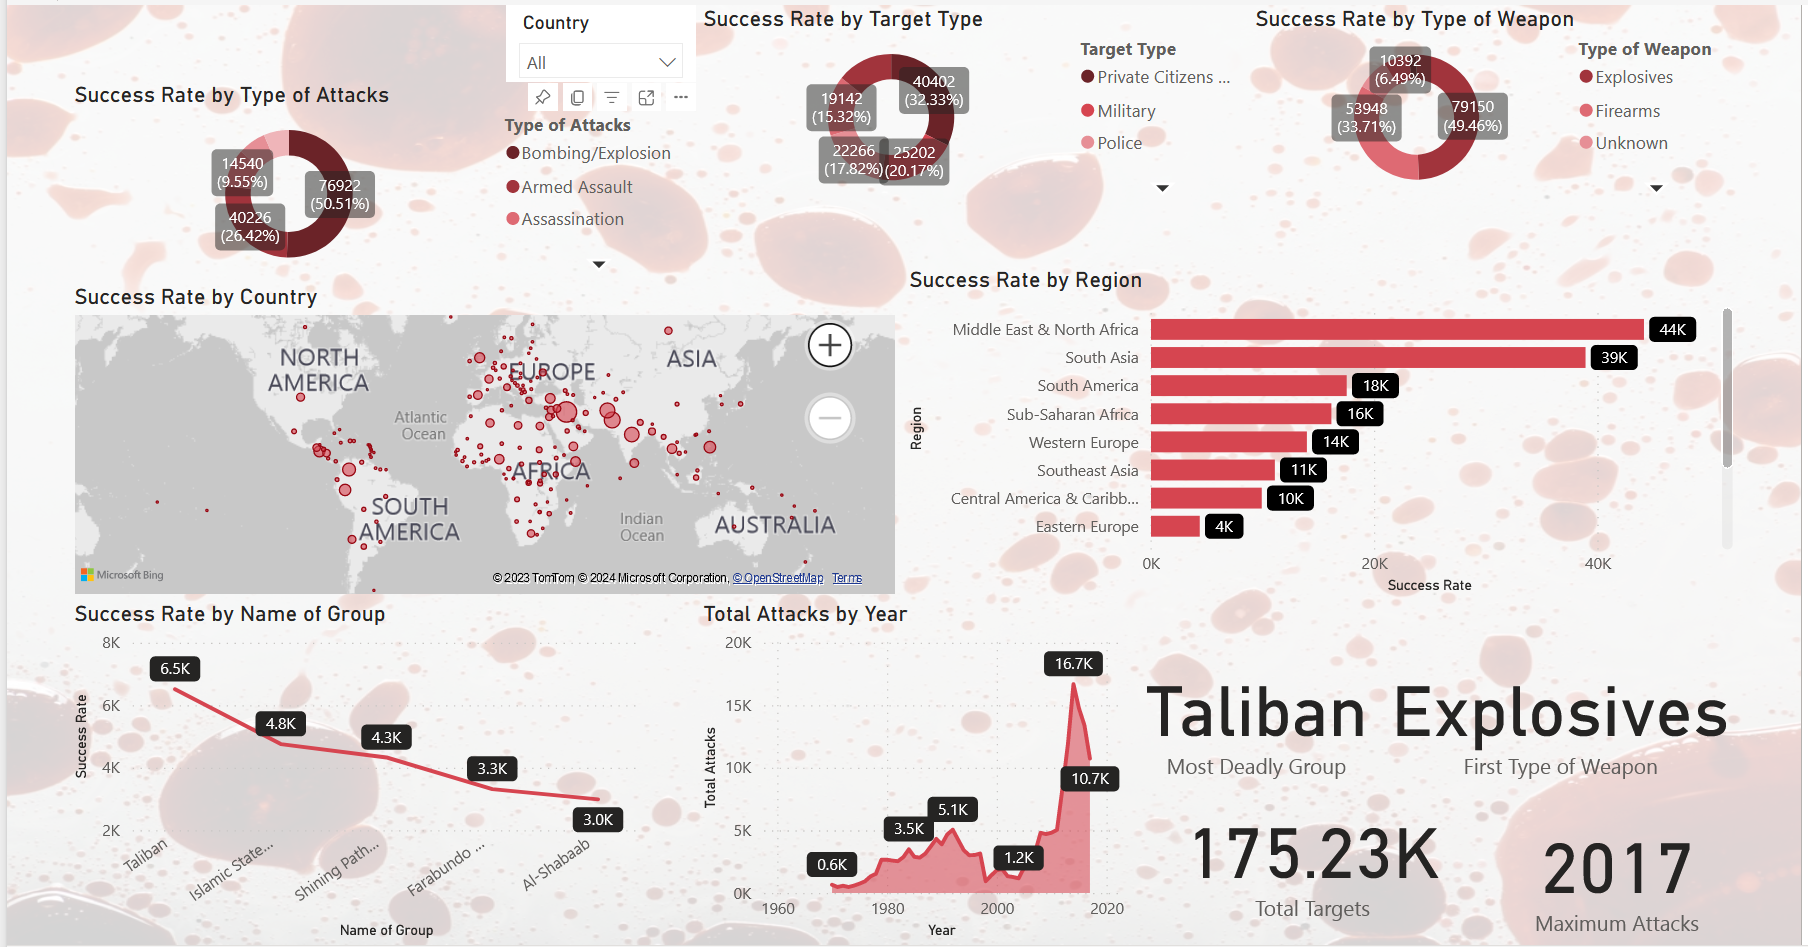

What the dashboard file says about the page in this screenshot:
{"tool":"powerbi","page":{"name":"TERRORISM ","canvas":[1280,720],"ordinal":1},"visuals":[{"type":"donutChart","fields":{"Category":["Global Terrorism Final.Type of Attacks"],"Y":["Sum(Global Terrorism Final.Success Rate)"]},"box":[0,58.8,481.2,153.8],"z":0},{"type":"donutChart","fields":{"Category":["Global Terrorism Final.Target Type"],"Y":["Sum(Global Terrorism Final.Success Rate)"]},"box":[481.4,0,423.6,153.3],"z":1000},{"type":"donutChart","fields":{"Category":["Global Terrorism Final.Type of Weapon"],"Y":["Sum(Global Terrorism Final.Success Rate)"]},"box":[905.1,0,375.2,153.3],"z":2000},{"type":"map","fields":{"Category":["Global Terrorism Final.Country"],"Size":["Sum(Global Terrorism Final.Success Rate)"]},"box":[0,212.5,638.8,243.8],"z":3000},{"type":"barChart","fields":{"Category":["Global Terrorism Final.Region"],"Y":["Sum(Global Terrorism Final.Success Rate)"]},"box":[639.5,200.3,640.8,255.2],"z":4000},{"type":"lineChart","fields":{"Y":["Sum(Global Terrorism Final.Success Rate)"],"Category":["Global Terrorism Final.Name of Group"]},"box":[0,455.9,443.8,263.6],"z":5000},{"type":"areaChart","fields":{"Category":["Global Terrorism Final.Year"],"Y":["CountNonNull(Global Terrorism Final.Year)"]},"box":[481.4,455.9,332.2,263.6],"z":6000},{"type":"slicer","fields":{"Values":["Global Terrorism Final.Country"]},"box":[335,0,146.2,58.8],"z":7000},{"type":"card","fields":{"Values":["Min(Global Terrorism Final.Name of Group)"]},"box":[813.6,478.8,193.7,131.8],"z":8000},{"type":"card","fields":{"Values":["CountNonNull(Global Terrorism Final.Target Type)"]},"box":[813.6,587.7,279.7,131.8],"z":9000},{"type":"card","fields":{"Values":["Max(Global Terrorism Final.Year)"]},"box":[1093.3,610.6,186.9,108.9],"z":10000},{"type":"card","fields":{"Values":["Min(Global Terrorism Final.Type of Weapon)"]},"box":[1007.3,478.8,273,131.8],"z":11000}]}

Visuals, with their boxes on the page's 1280x720 design canvas (x1, y1, x2, y2). These are canvas units, not pixel positions in the 1808x947 screenshot, which may show the page scaled, cropped or inside an application window:
donutChart - Global Terrorism Final.Type of Attacks x Sum(Global Terrorism Final.Success Rate): 0/59/481/213
donutChart - Global Terrorism Final.Target Type x Sum(Global Terrorism Final.Success Rate): 481/0/905/153
donutChart - Global Terrorism Final.Type of Weapon x Sum(Global Terrorism Final.Success Rate): 905/0/1280/153
map - Global Terrorism Final.Country x Sum(Global Terrorism Final.Success Rate): 0/212/639/456
barChart - Global Terrorism Final.Region x Sum(Global Terrorism Final.Success Rate): 640/200/1280/456
lineChart - Sum(Global Terrorism Final.Success Rate) x Global Terrorism Final.Name of Group: 0/456/444/720
areaChart - Global Terrorism Final.Year x CountNonNull(Global Terrorism Final.Year): 481/456/814/720
slicer - Global Terrorism Final.Country: 335/0/481/59
card - Min(Global Terrorism Final.Name of Group): 814/479/1007/611
card - CountNonNull(Global Terrorism Final.Target Type): 814/588/1093/720
card - Max(Global Terrorism Final.Year): 1093/611/1280/720
card - Min(Global Terrorism Final.Type of Weapon): 1007/479/1280/611
